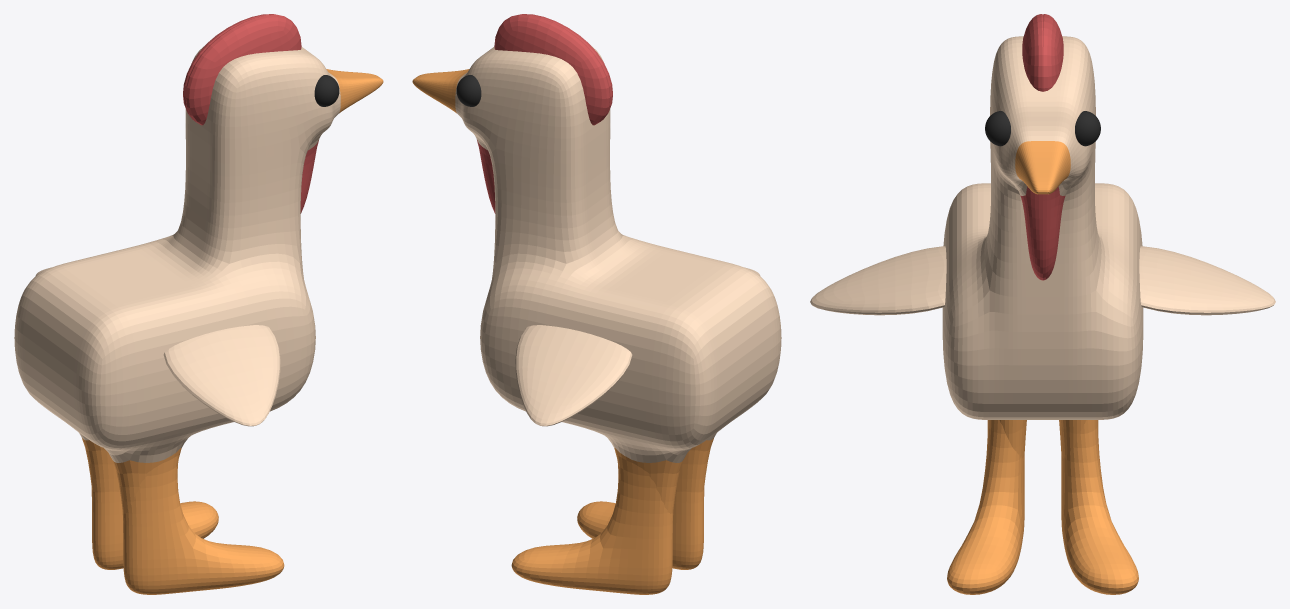
Rendered from Chick.fbx.
3 views of the same model, side by side, from view 1: azimuth 30°, elevation 25°; view 2: azimuth 150°, elevation 25°; view 3: azimuth 270°, elevation 25° (orthographic). The views are drawn at different scales.
Parts seen in each view (by area): view 1: Chicken; view 2: Chicken; view 3: Chicken.
Boxes of the visible parts, x1,y1,x2,y2 form: Chicken: (14,14,383,594); Chicken: (412,14,781,594); Chicken: (810,14,1275,594).
Size of the model in its own units: 416 by 640 by 458.
